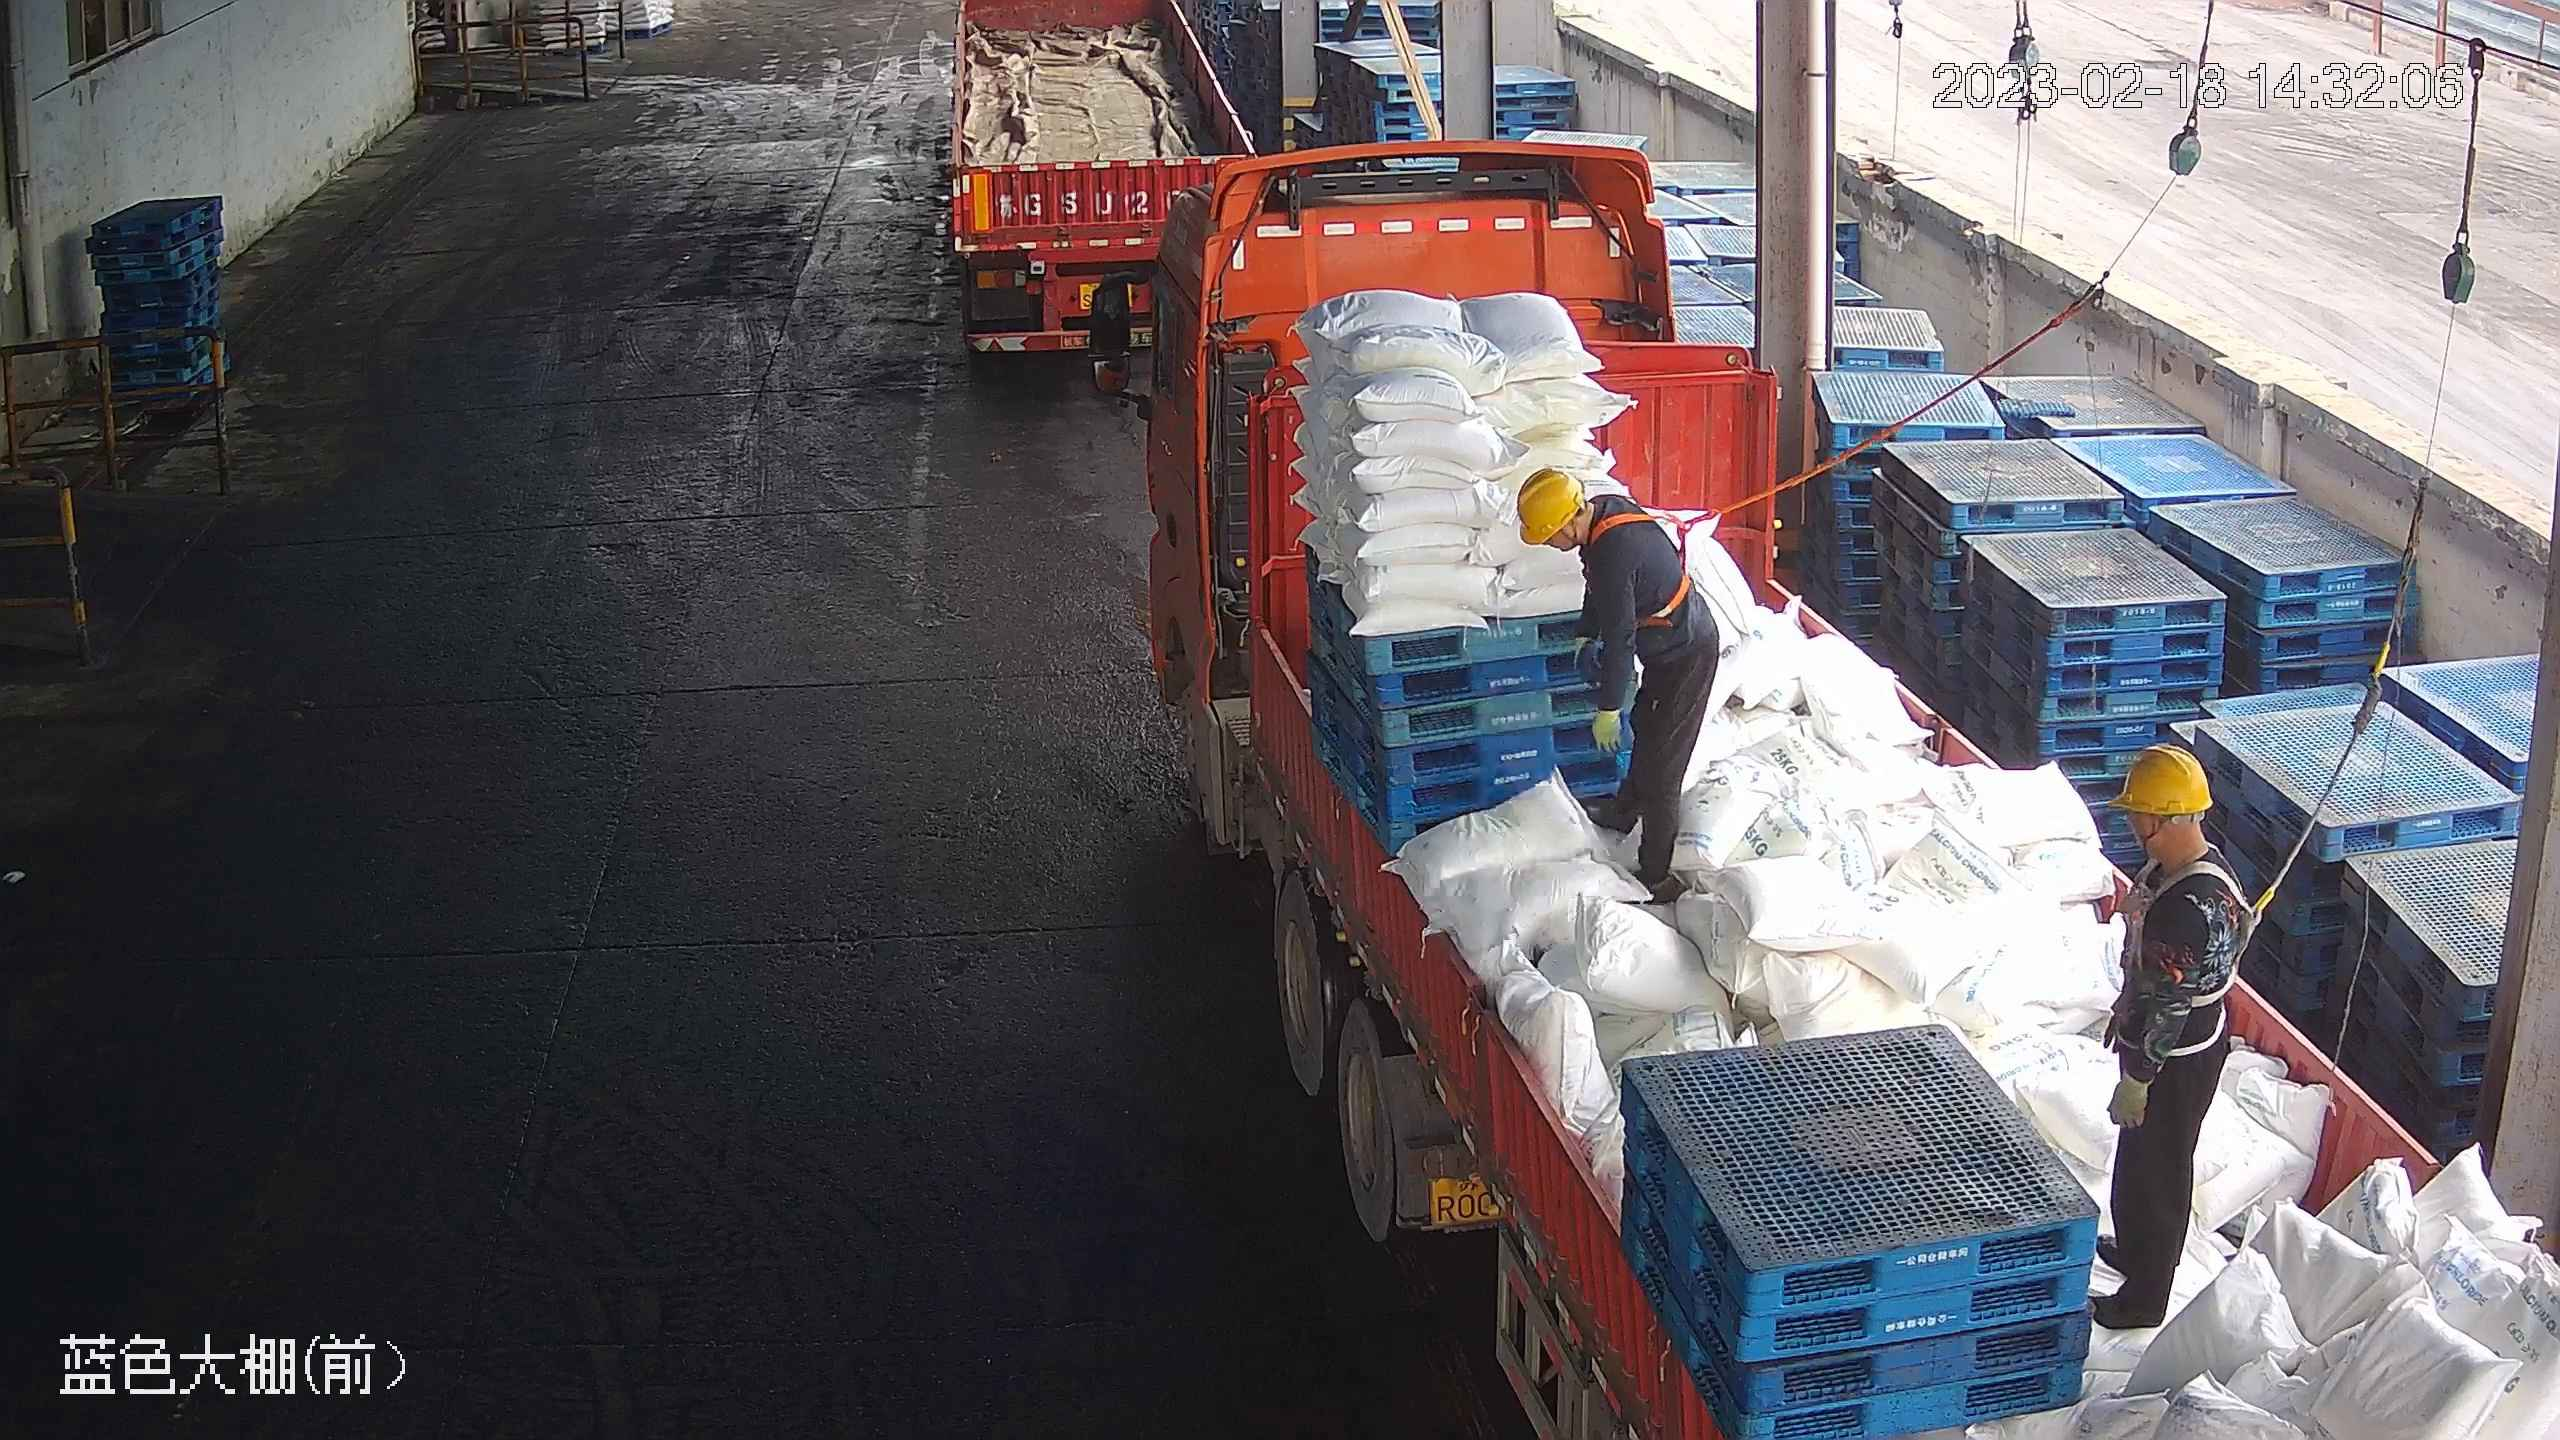belt: (2127, 859, 2265, 1008), (1588, 486, 1713, 623)
head: (2104, 741, 2244, 939), (1515, 470, 1678, 614)
helmet: (2110, 741, 2217, 814), (1516, 468, 1583, 547)
people: (2082, 745, 2252, 1339), (1515, 465, 1722, 911)
truck: (1074, 141, 2560, 1436), (938, 4, 1266, 375)
